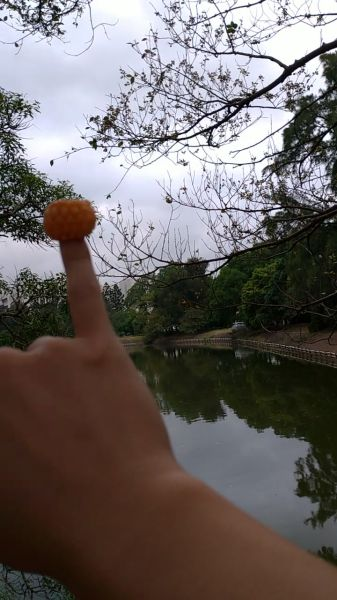eggs: (41, 198, 97, 239)
